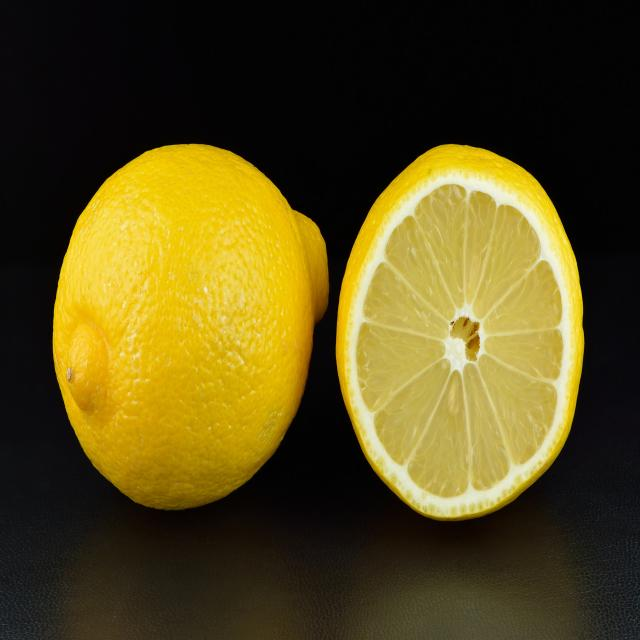organic: (51, 142, 332, 510), (335, 144, 587, 522)
